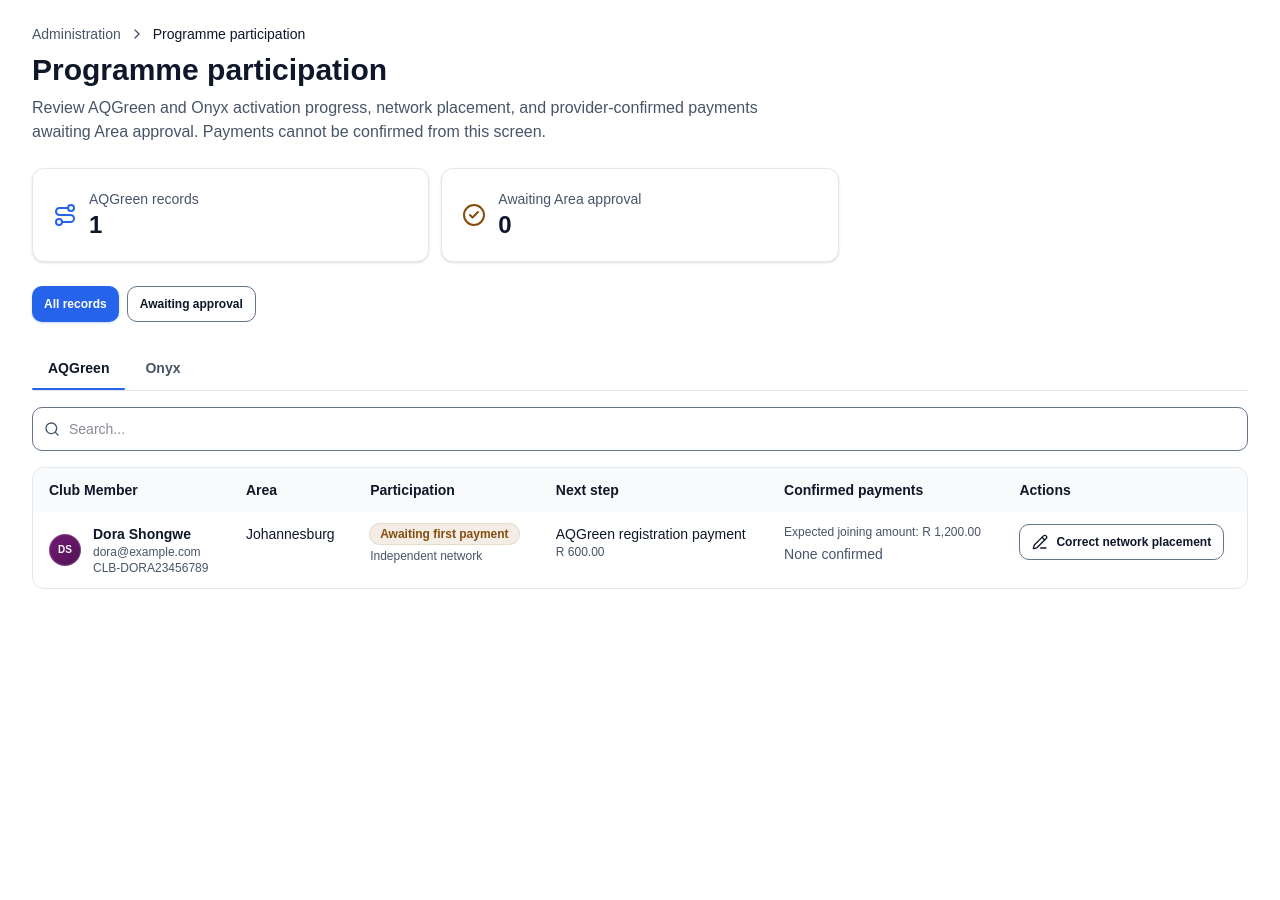
Scenario: AdminProgrammeParticipations › confirms an audited network placement correction using public Club Member numbers
The image size is (1280, 900).
Click the button "Correct network placement" at (1122, 542), box [1019,524,1224,560]
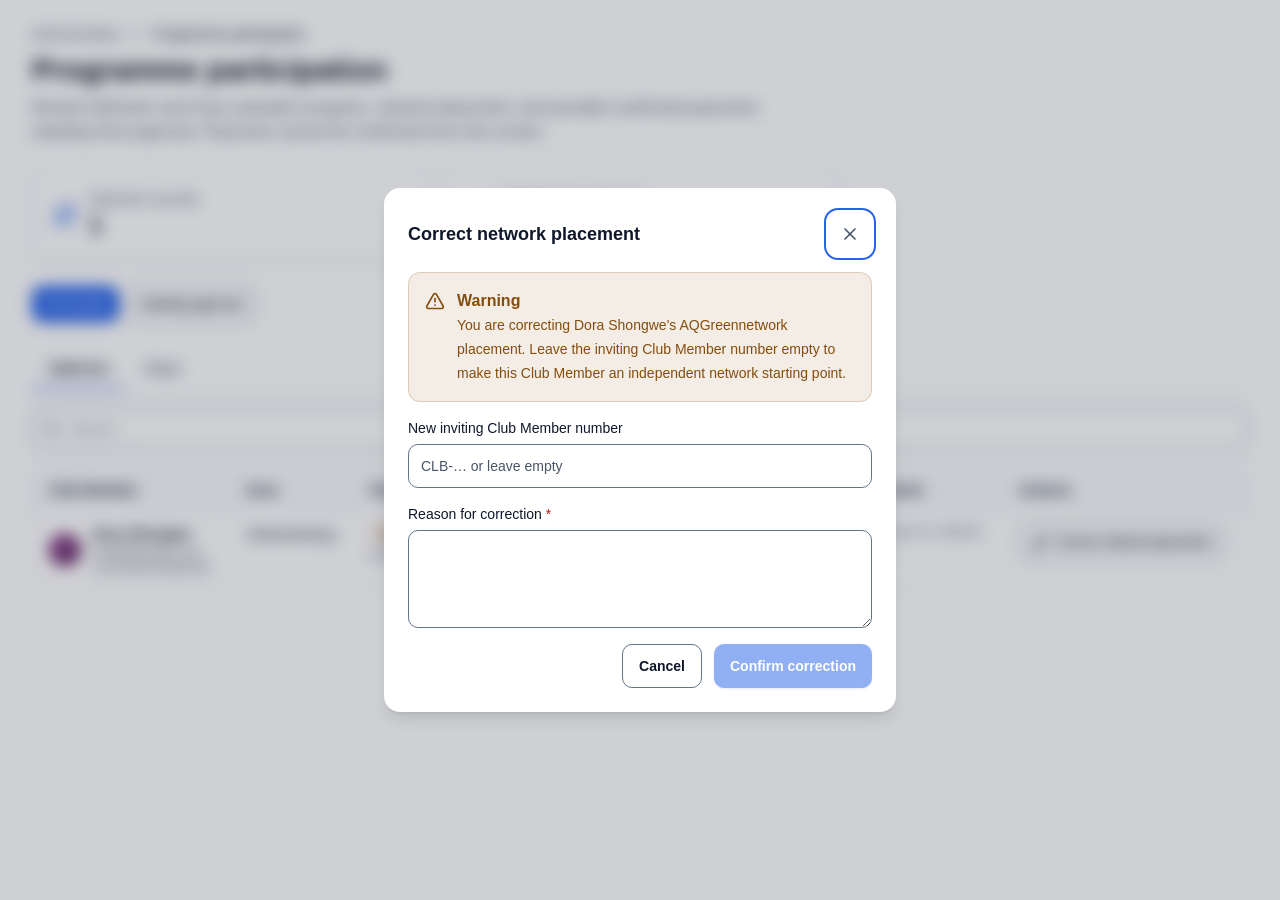
Type "clb-new23456789" into the field labelled "New inviting Club Member number" at (640, 466), box [408,444,872,488]
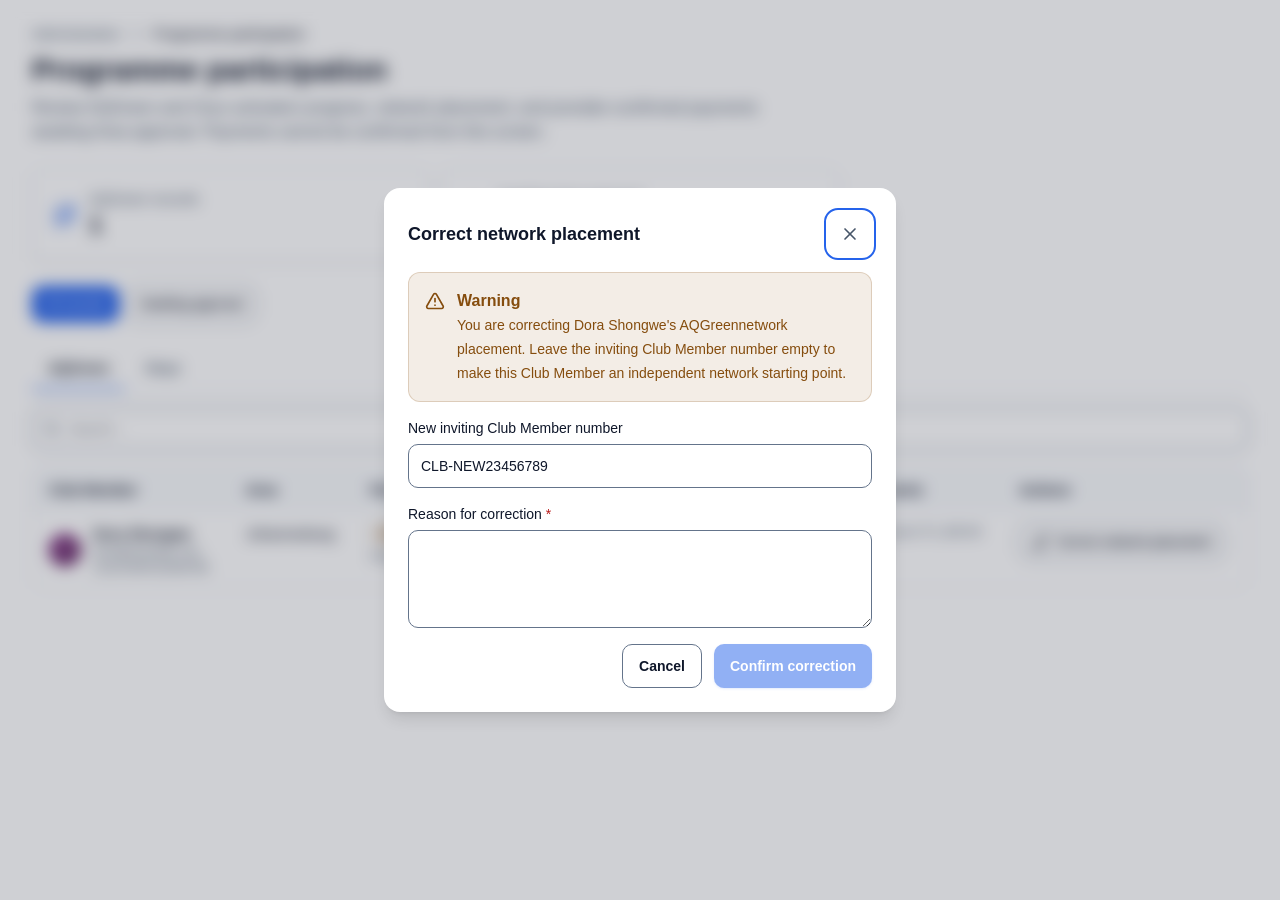
Type "Verified against the signed joining form" into the text box labelled "Reason for correction" at (640, 579), box [408,530,872,628]
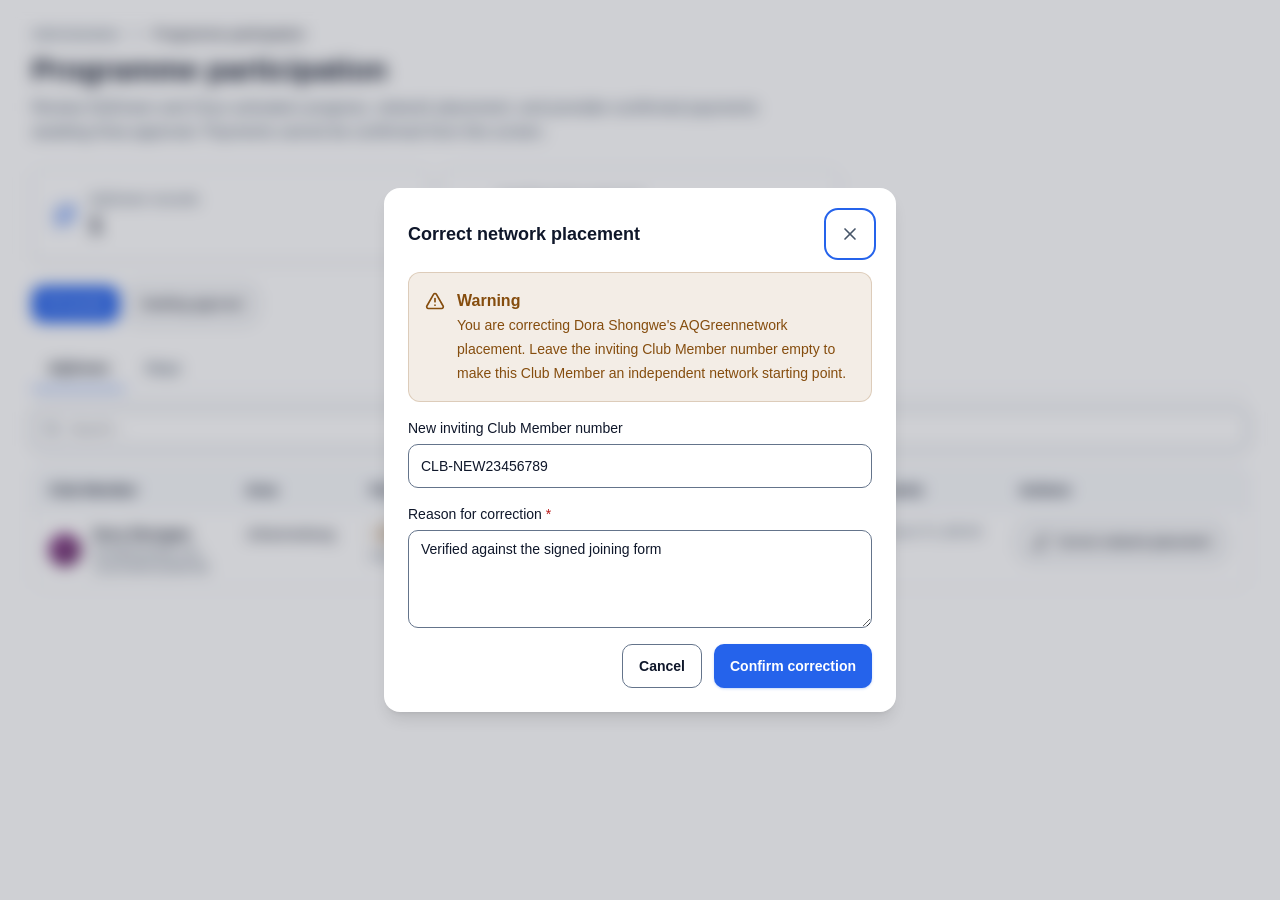
Click the button "Confirm correction" at (793, 666), box [714,644,872,688]
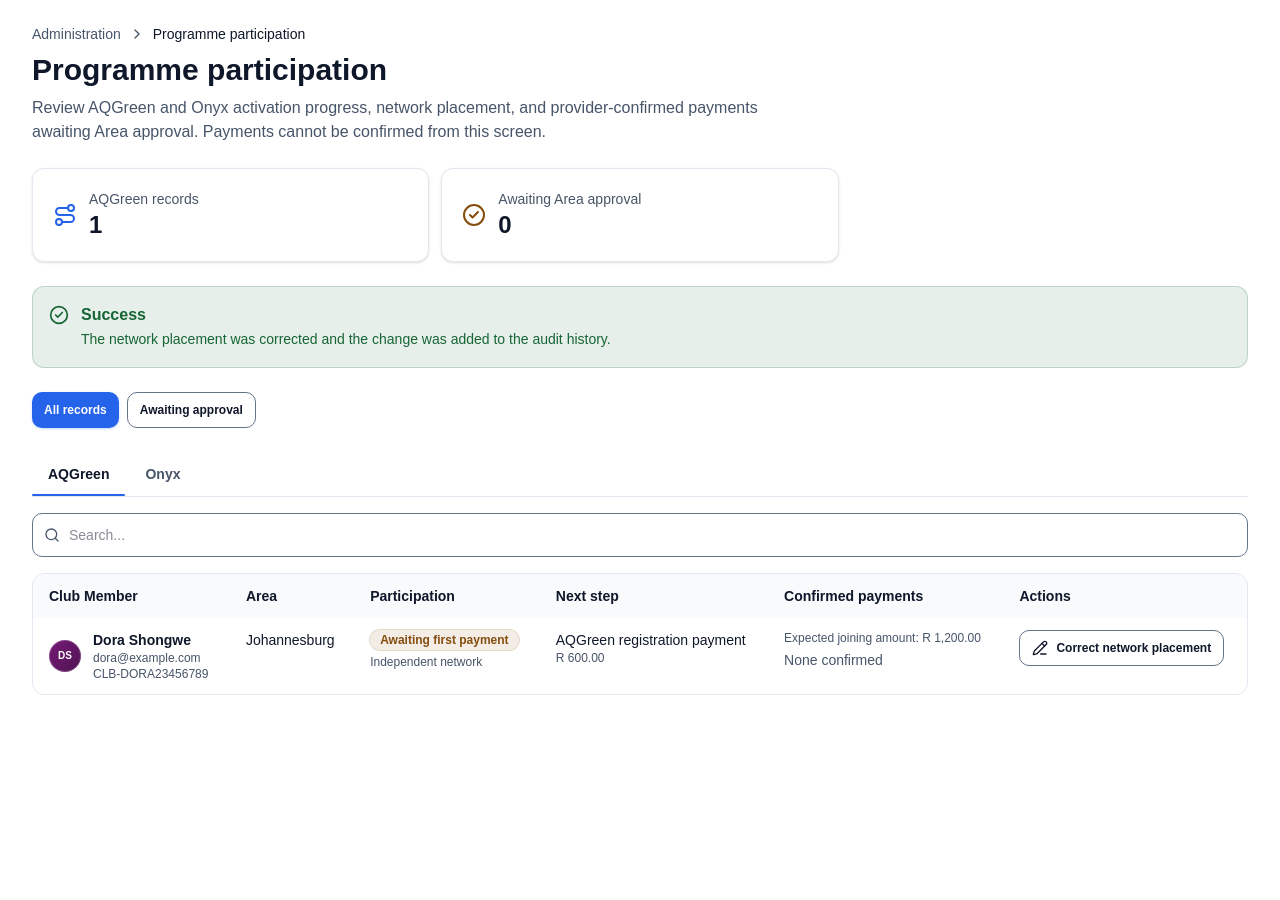
Expected: the text "change was added to the audit history" is shown, [81,331,611,347]
